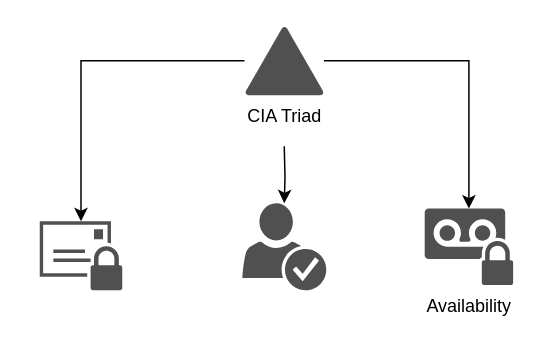
The diagram is 539 pixels wide and 347 high, and some of its shapes have lost their labels. Here are the shapes that lost their labels. From the top down, the centre of each, then its label:
At [80,255]: "Confidentiality".
At [284,246]: "Integrity".
